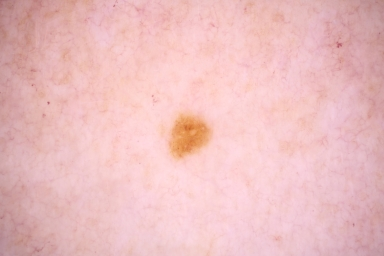melanoma: (172, 116, 211, 162)
